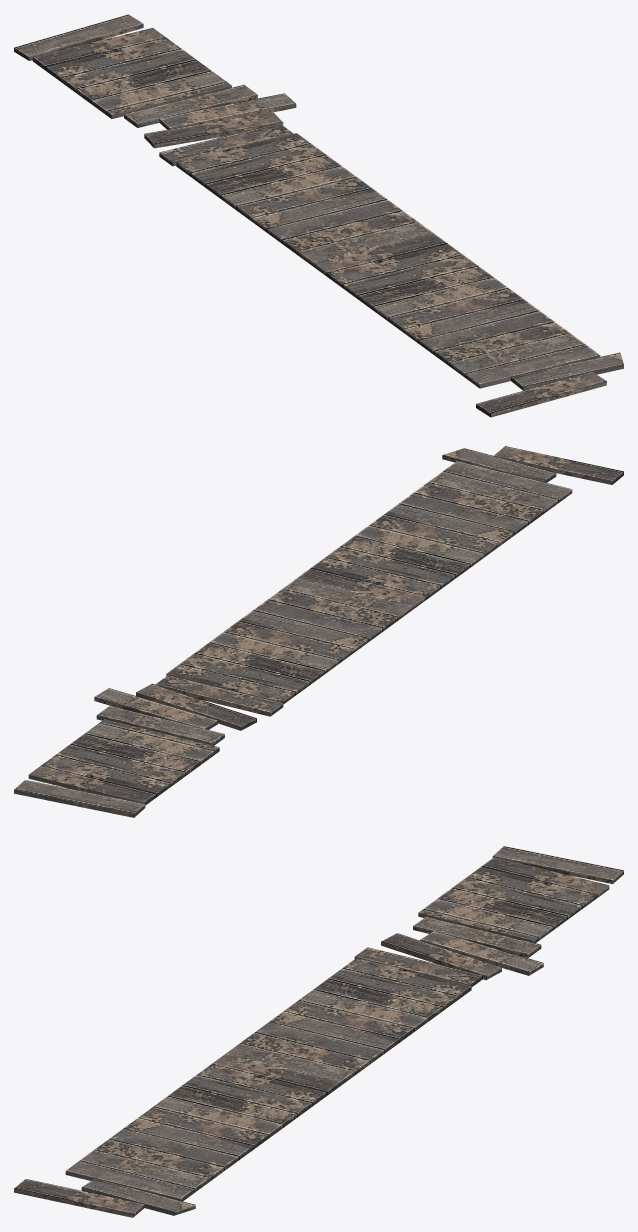
File: Woodpath_v4_M2.gltf
3 renders of one model, top to bottom at view 1: azimuth 30°, elevation 25°; view 2: azimuth 150°, elevation 25°; view 3: azimuth 330°, elevation 25°, orthographic. The views are drawn at different scales.
Parts seen in each view (by area): view 1: Woodpath_v4_M2(Clone); view 2: Woodpath_v4_M2(Clone); view 3: Woodpath_v4_M2(Clone).
Part boxes in pixels (x1=…): Woodpath_v4_M2(Clone): x1=14, y1=14, x2=623, y2=417; Woodpath_v4_M2(Clone): x1=14, y1=446, x2=623, y2=817; Woodpath_v4_M2(Clone): x1=14, y1=846, x2=623, y2=1217.
Size of the model in its own units: 2.18 by 0.0501 by 10.78.
1 material, 1 textured.
